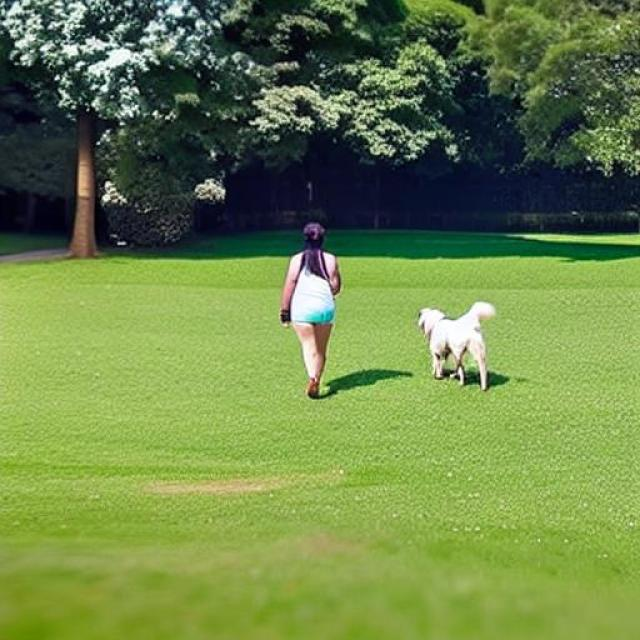Unleashed_Dog: (294, 302, 497, 391)
